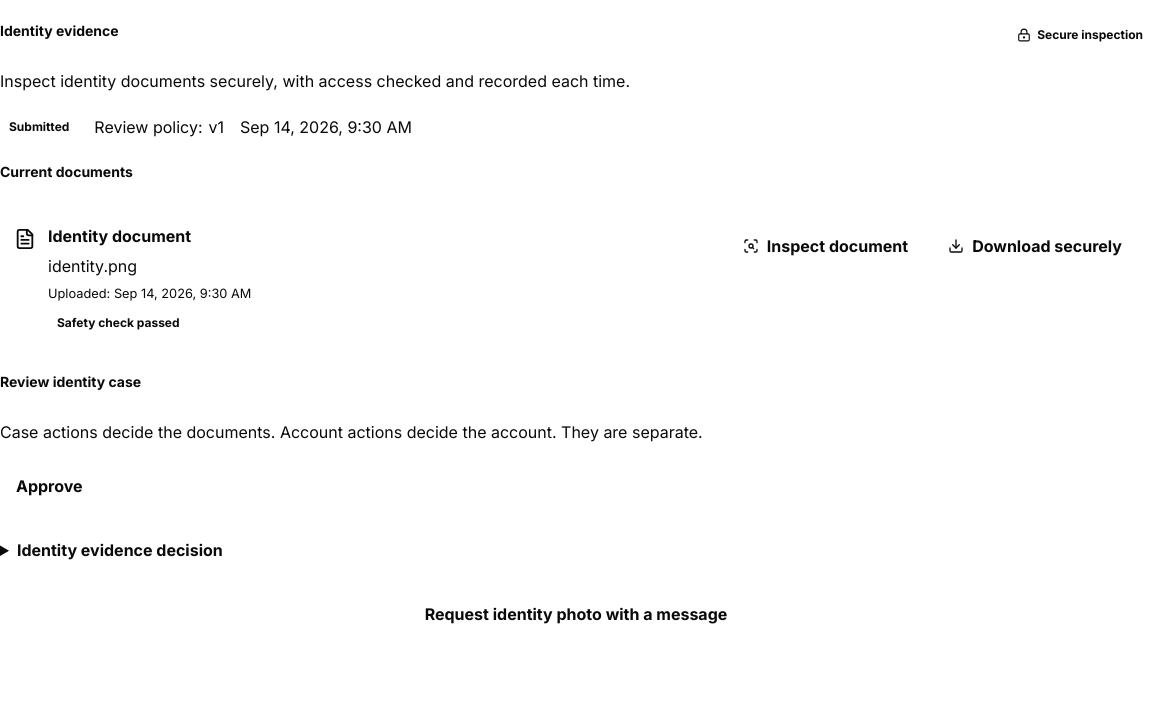
Scenario: restricted identity preview › explains en identity conflict EVIDENCE_OBJECT_UNAVAILABLE while preserving the case note
Click the button with test id "review-case-approve" at [49, 486], box x1=0 y1=464 x2=99 y2=508
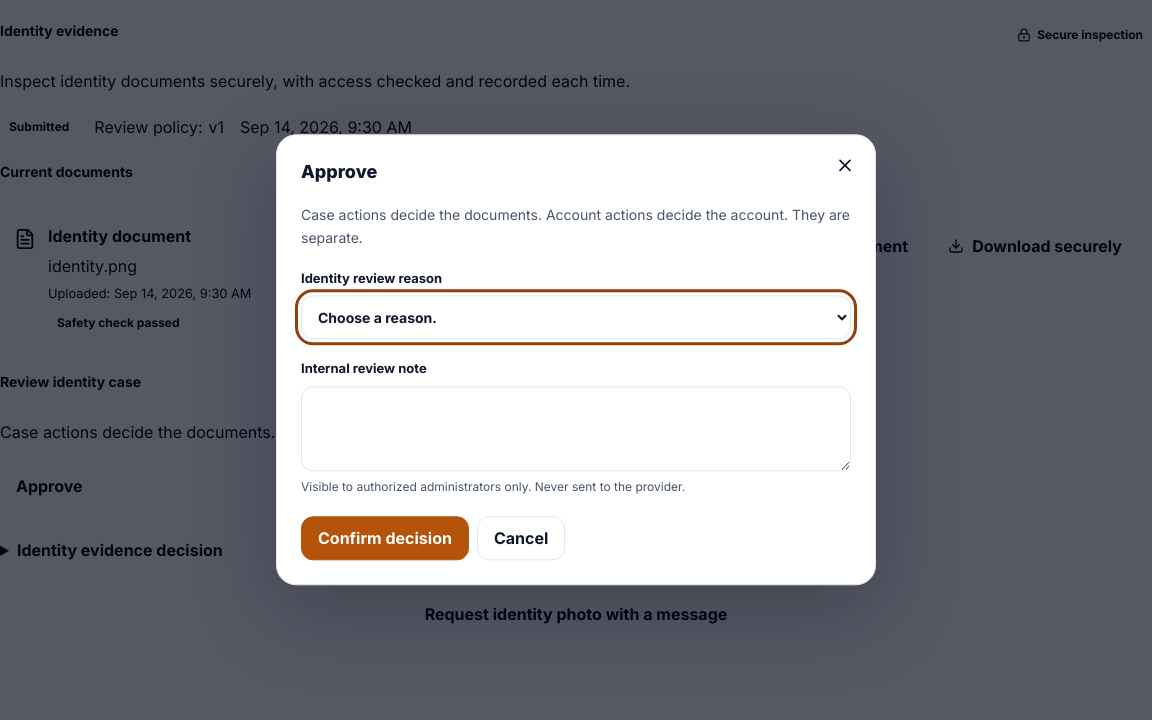
Select "Documents complete and legible" in the dropdown at [576, 318], box x1=301 y1=296 x2=851 y2=340
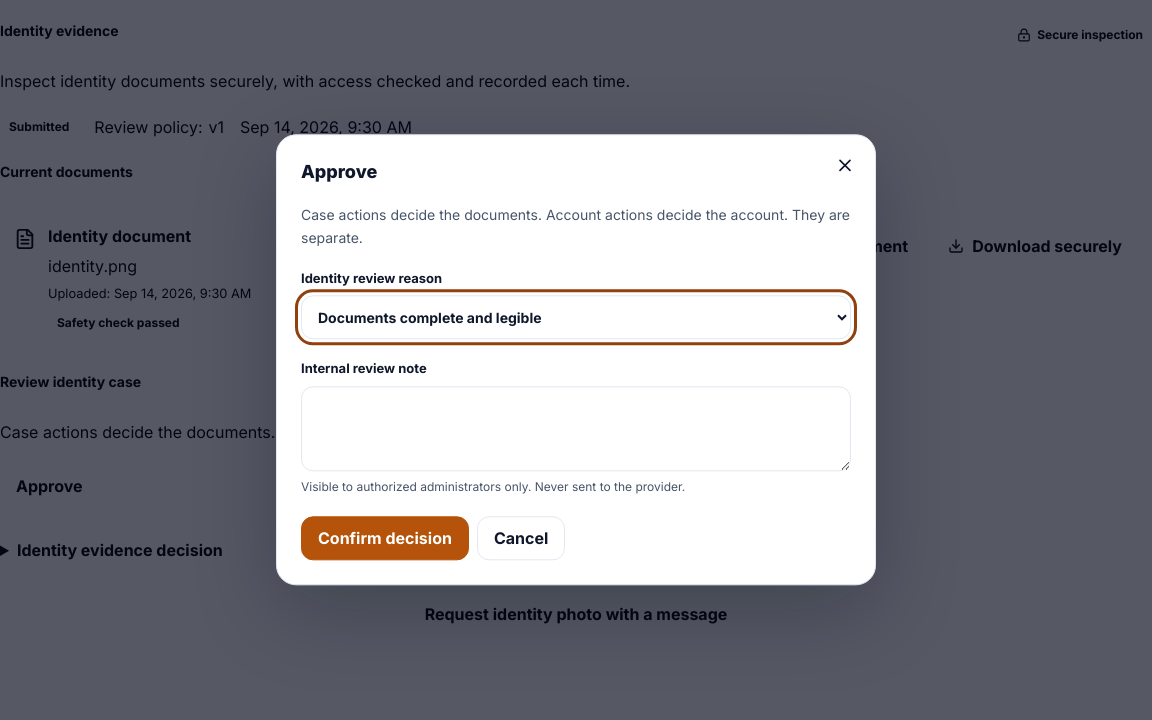
Type "Preserved case note" into the text box at [576, 429], box x1=301 y1=386 x2=851 y2=471
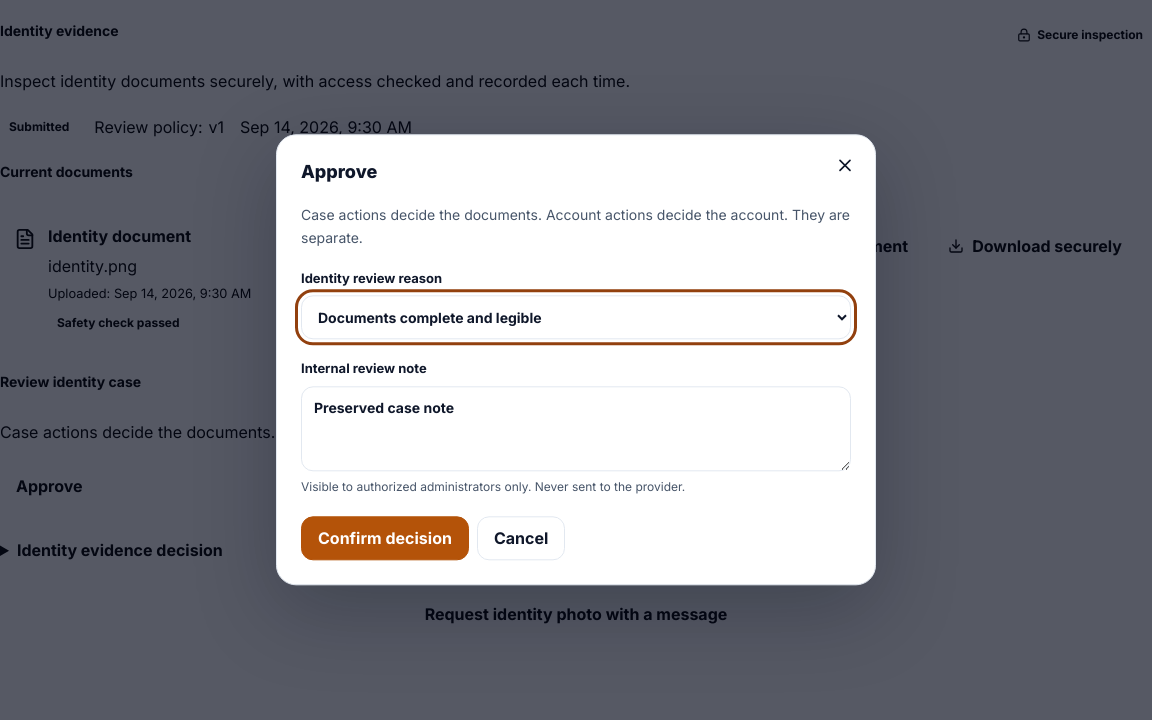
Click the button with test id "review-case-confirm" at [385, 538], box x1=301 y1=516 x2=469 y2=561
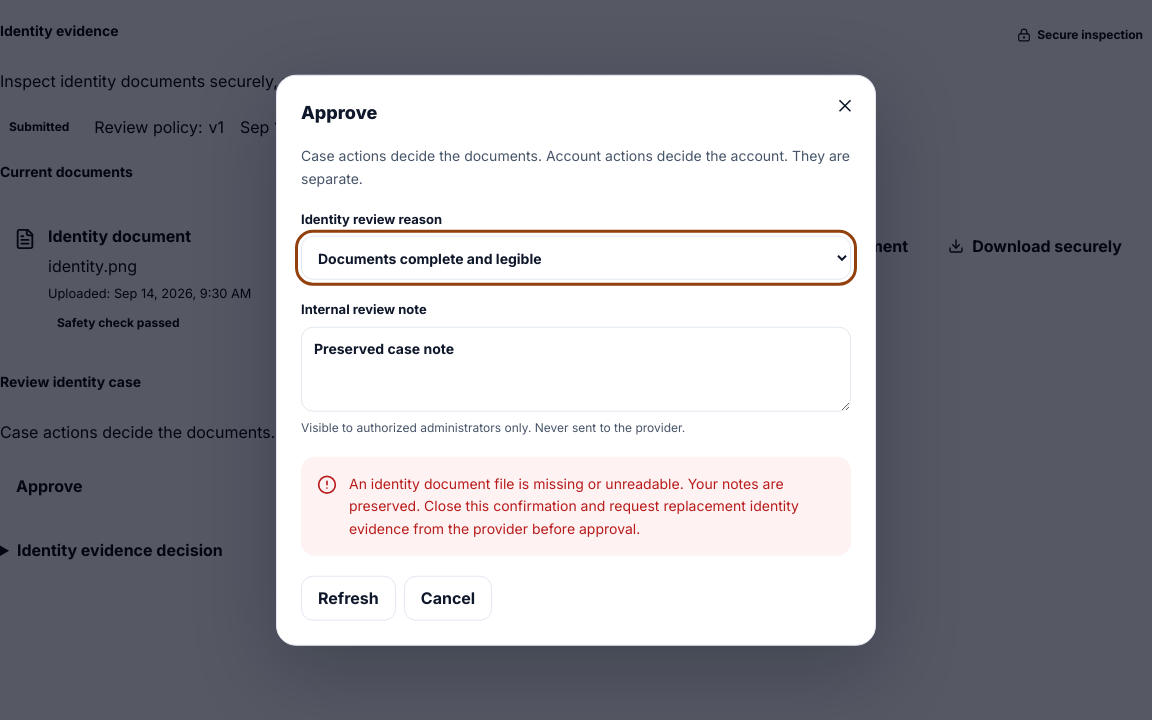
Expected: the message shows "request replacement identity evidence", x1=349 y1=475 x2=799 y2=536
Expected: the button with test id "review-case-confirm" is gone
